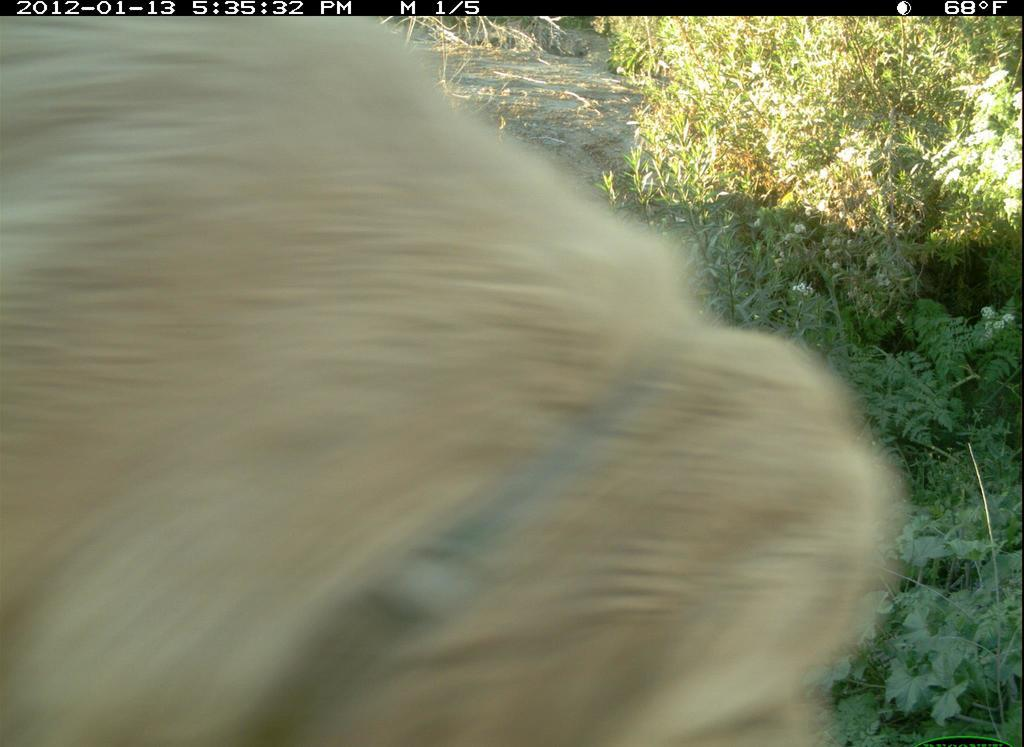dog: (2, 13, 914, 745)
